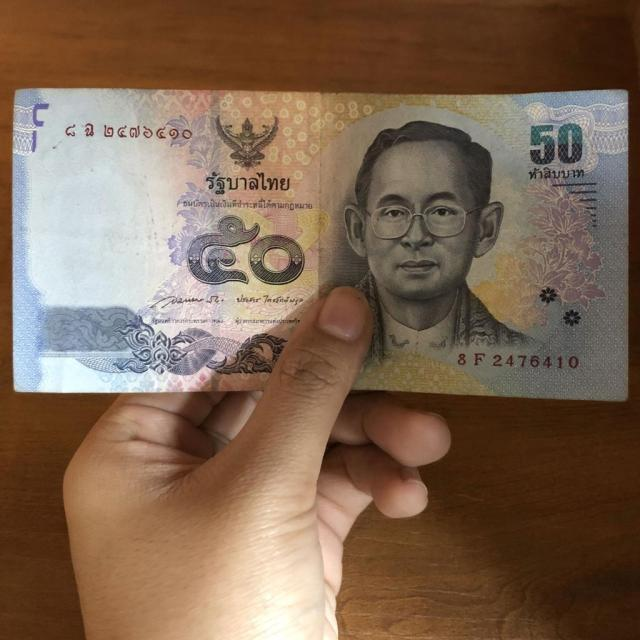THAI50: (12, 88, 629, 401)
